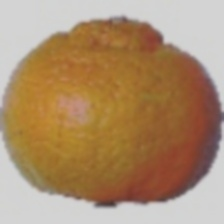tangerine: (10, 39, 189, 200)
